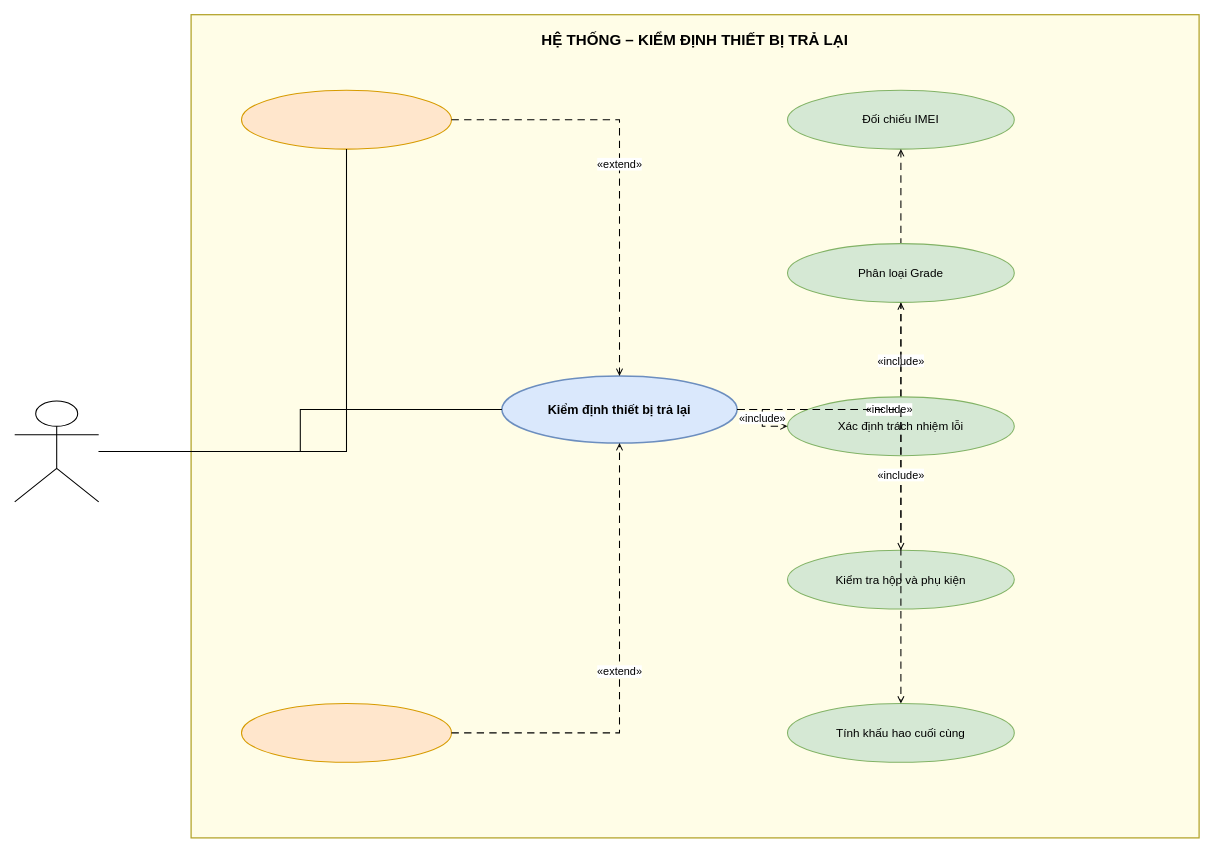
The diagram is 1215 pixels wide and 853 high, and some of its shapes have lost their labels. Each missing label, with the centre of its shape:
"Ghi nhận sai lệch IMEI" belongs at pixel 346 119.
"Warehouse" belongs at pixel 56 451.
"Đánh dấu thiết bị hư hỏng" belongs at pixel 346 732.
